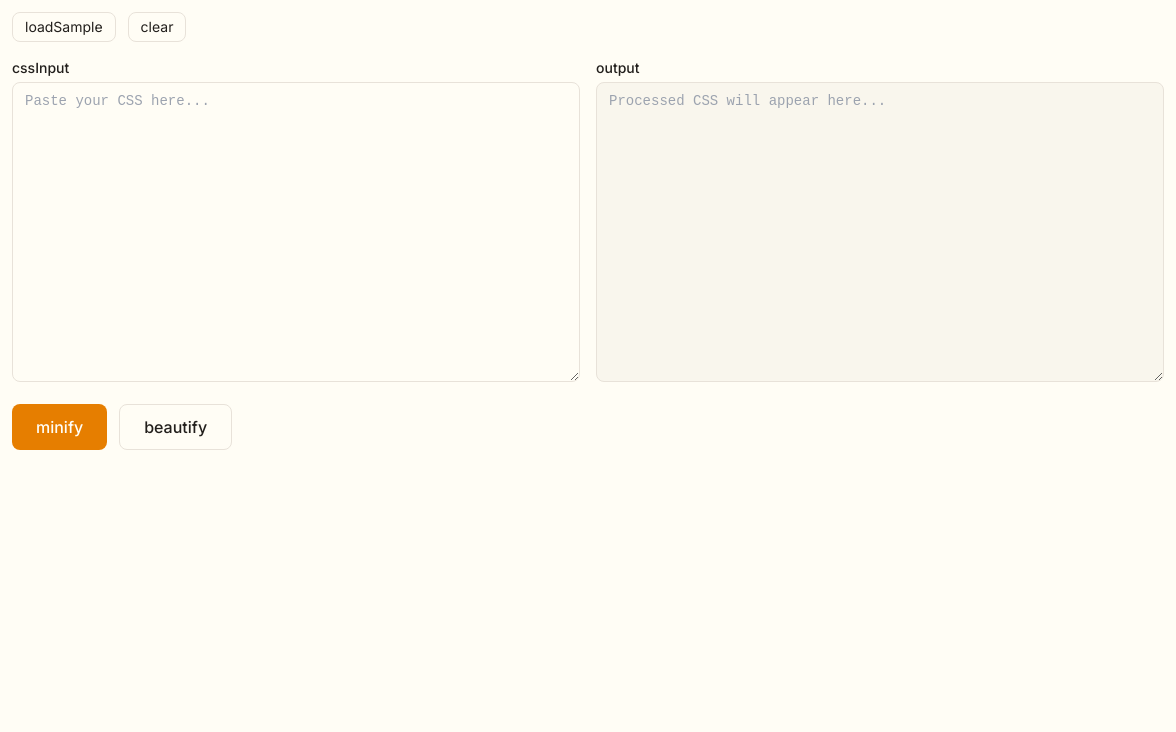
Scenario: CssMinifier › clears error when clear is clicked
Note: Trigger error
Click the button with aria-label "Minify CSS" at [60, 427], box [12,404,107,450]
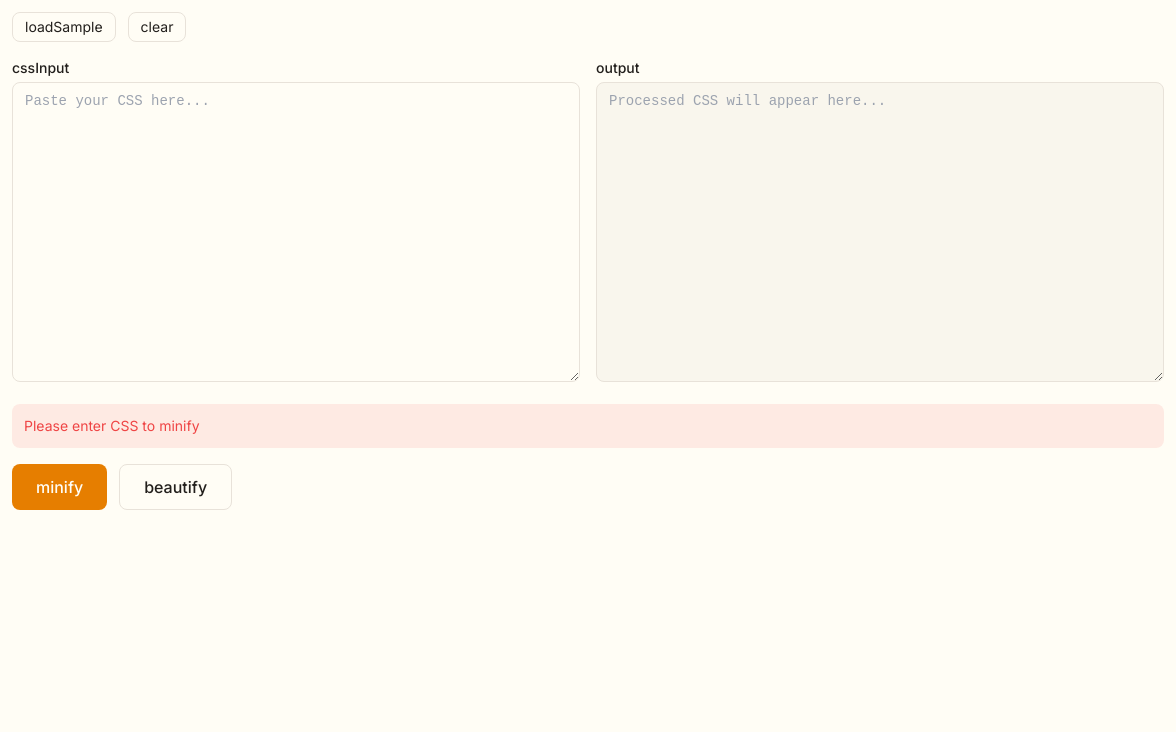
expect the text "Please enter CSS to minify" is shown: met, box [12,404,1164,448]
Note: Clear should remove error
Click the button with aria-label "Clear all" at [157, 27], box [128,12,186,42]
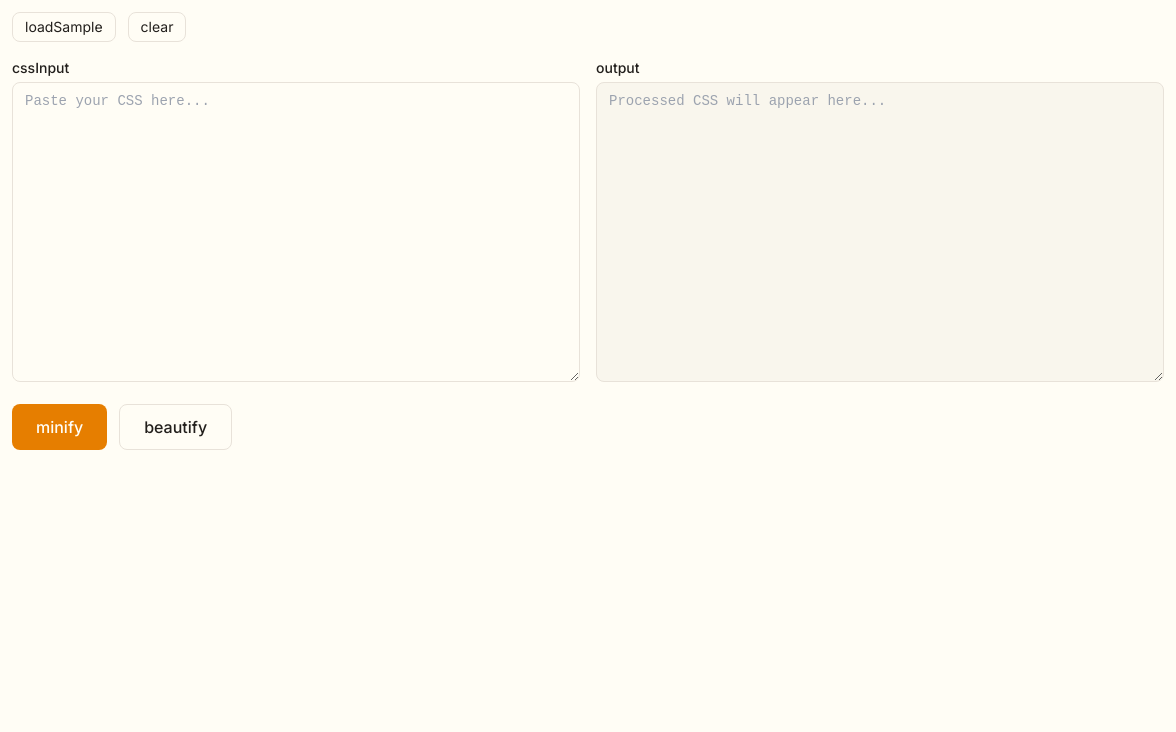
expect the text "Please enter CSS to minify" is gone: met
